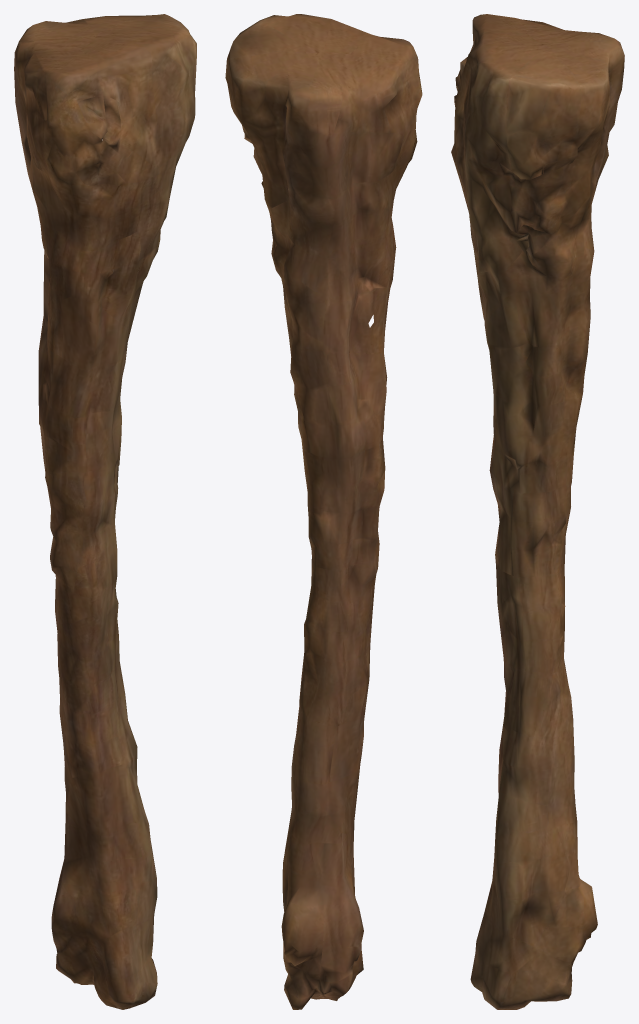
File: 1495_club.glb
The picture shows the model from 3 angles, left to right: view 1: azimuth 30°, elevation 25°; view 2: azimuth 150°, elevation 25°; view 3: azimuth 270°, elevation 25°; orthographic projection.
Visible parts, largest first — view 1: Model; view 2: Model; view 3: Model.
Part boxes in pixels (x1,y1,x2,y2): Model: (14,14,196,1009); Model: (225,14,422,1009); Model: (451,14,624,1009).
Size of the model in its own units: 0.1728 by 1 by 0.1634.
Materials: 1 (1 with a texture image).
